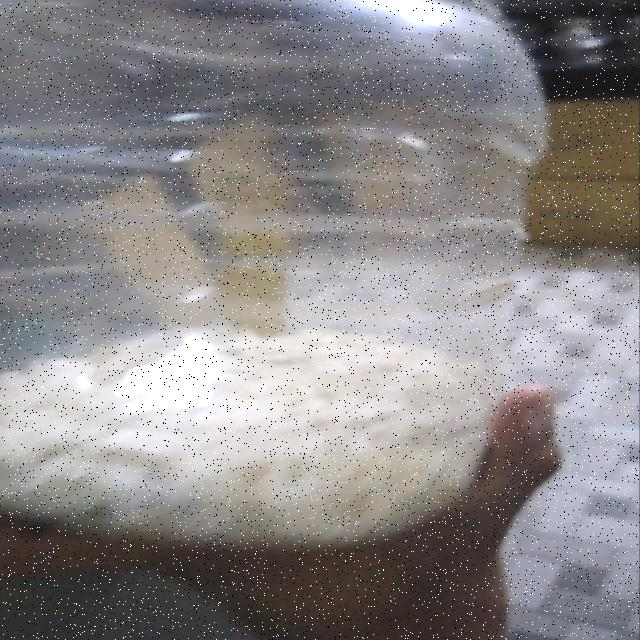Beaten Rice: (55, 359, 444, 543)
